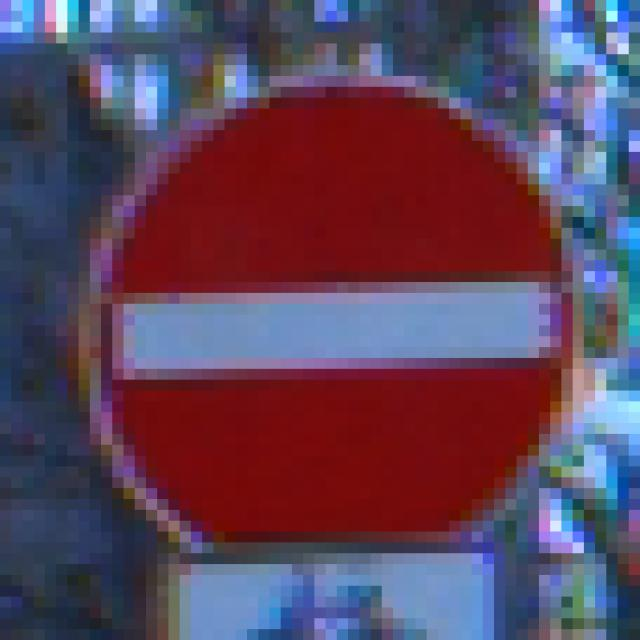No Entry: (68, 66, 585, 587)
